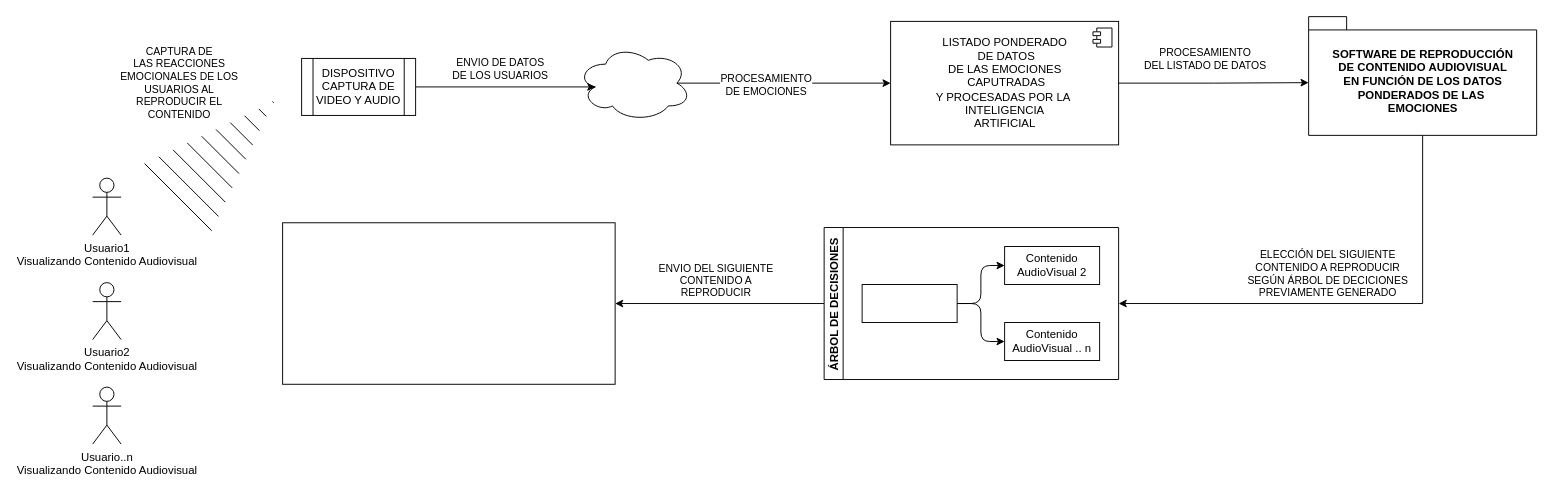
This 1553x495 diagram has some shape labels left out. Here are the shapes that lost their labels. From the top down, the centre of each, then its label:
At (633,82): "INTELIGENCIA ARTIFICIAL".
At (448,303): "DISPOSITIVO O PLATAFORMA DE REPRODUCCIÓN DE CONTENIDO AUDIOVISUAL".
At (909,303): "Contenido AudioVisual 1".
